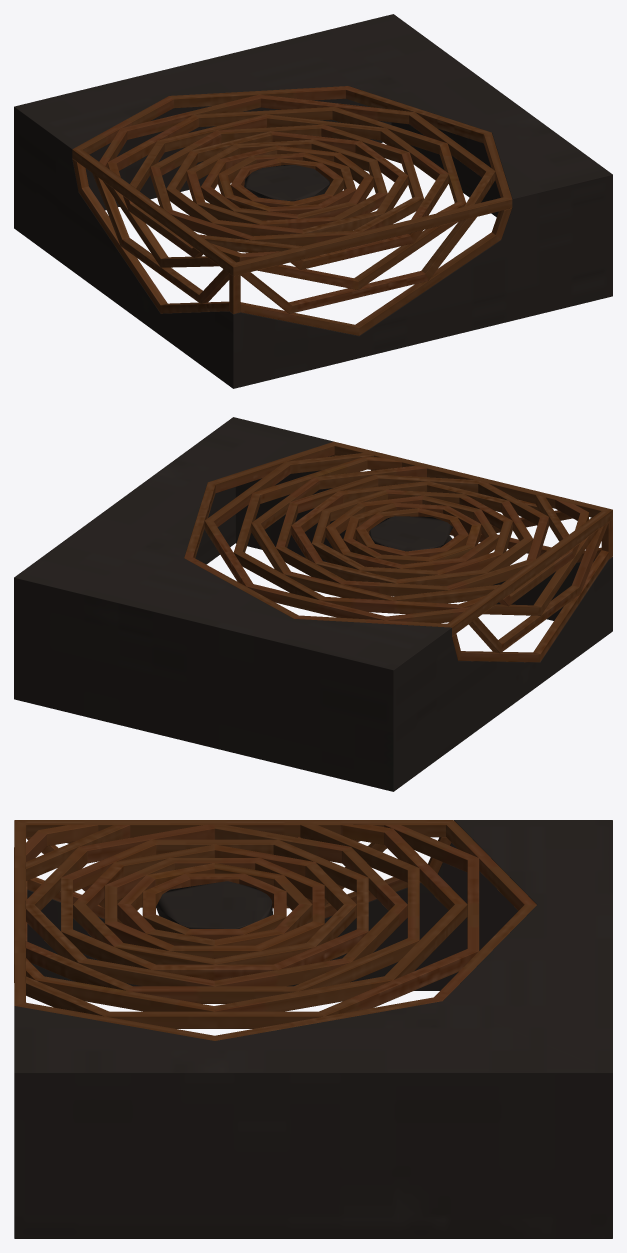
The model's file is coffee-table-modern-02.lite.4c05f67f.glb.
3 views of the same model, one above another, from view 1: azimuth 30°, elevation 25°; view 2: azimuth 150°, elevation 25°; view 3: azimuth 270°, elevation 25° (orthographic). The views are drawn at different scales.
Visible parts, largest first — view 1: model; view 2: model; view 3: model.
Part boxes in pixels (x1=…): model: x1=14, y1=14, x2=612, y2=388; model: x1=14, y1=417, x2=612, y2=791; model: x1=14, y1=820, x2=612, y2=1238.
Size of the model in its own units: 1.2 by 0.3692 by 1.2.
2 materials, 2 textured.
